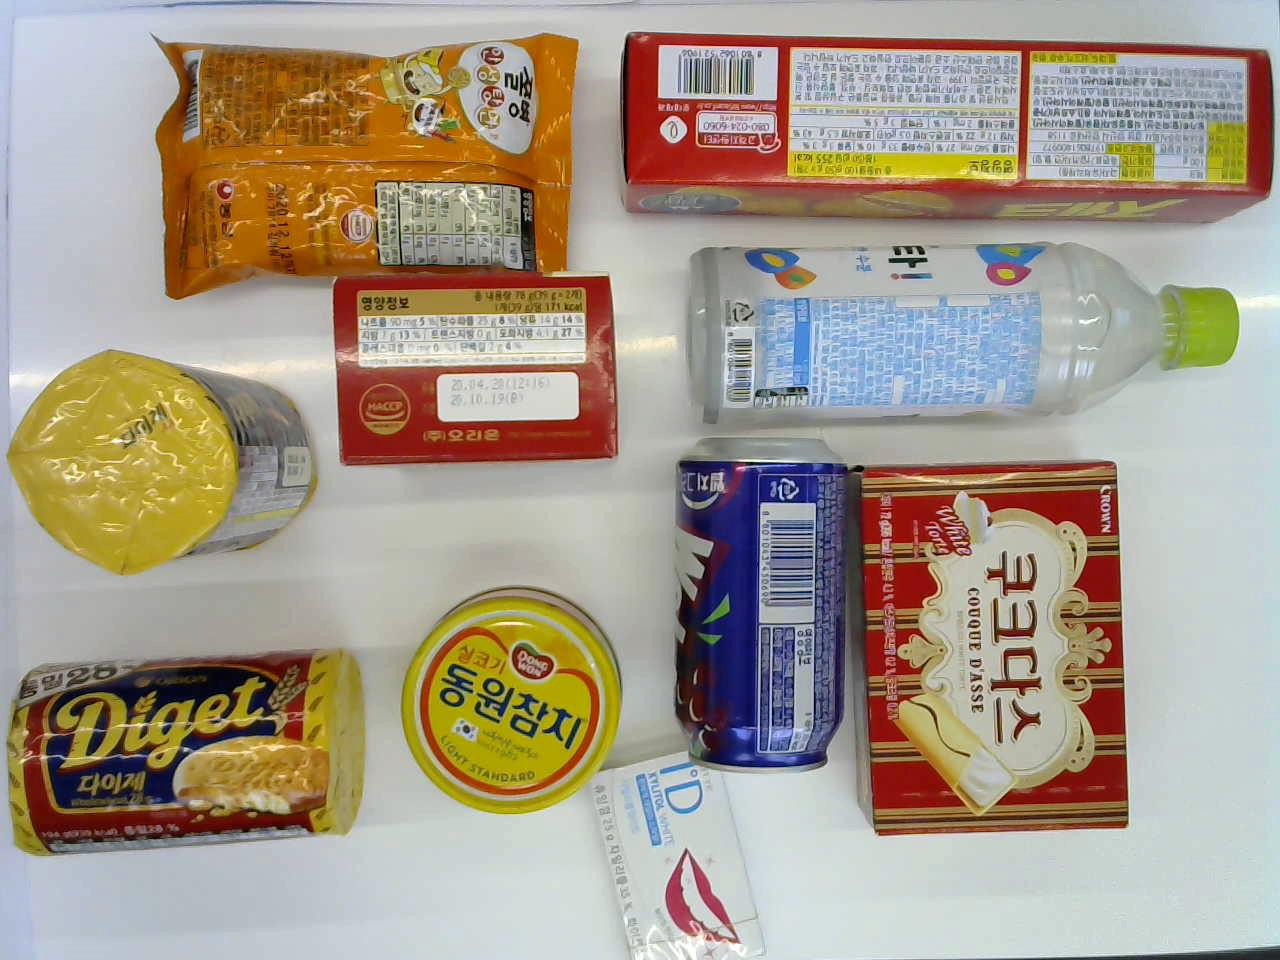ID_gum: (588, 743, 751, 956)
chocopie: (332, 270, 624, 481)
couque_white: (853, 451, 1135, 844)
diget_choco: (15, 349, 321, 579)
diget_ori: (9, 652, 363, 863)
jjolbyung_noodle: (139, 26, 575, 278)
toreta: (676, 239, 1237, 419)
tuna: (397, 580, 620, 813)
welchs: (674, 435, 851, 784)
zec: (611, 38, 1274, 211)
